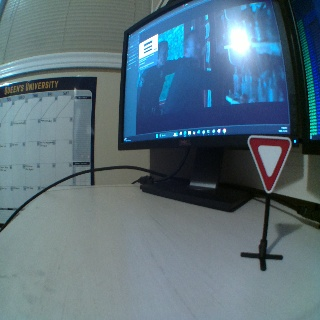sign_yield: (246, 133, 292, 192)
